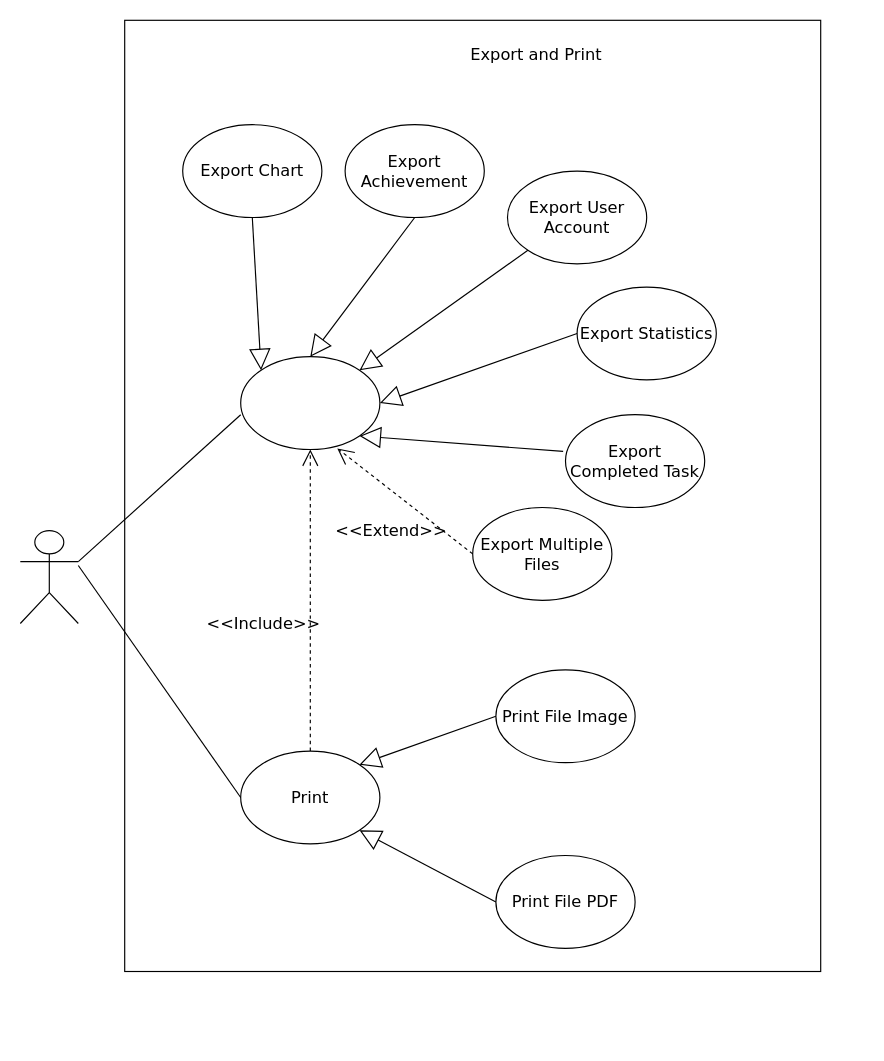
The diagram is 884 pixels wide and 1061 high, and some of its shapes have lost their labels. Each missing label, with the centre of its shape:
Export: point 310,402
User: point 48,577
